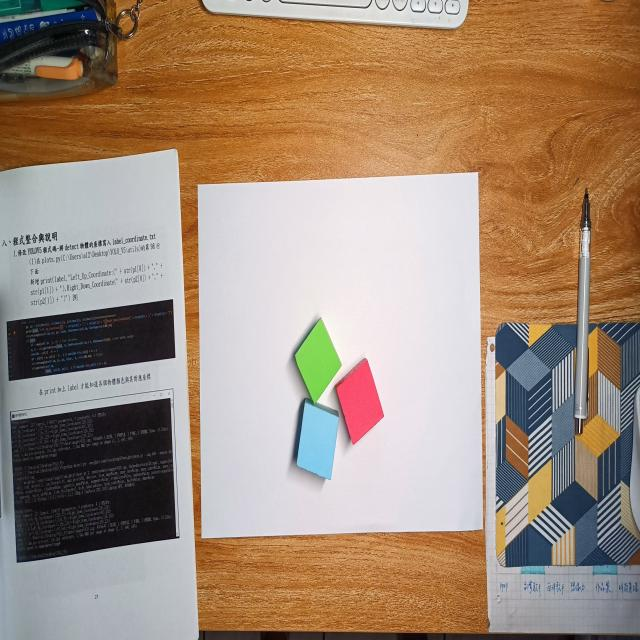BLUE: (296, 398, 340, 481)
GREEN: (293, 318, 342, 405)
RED: (336, 358, 384, 445)
